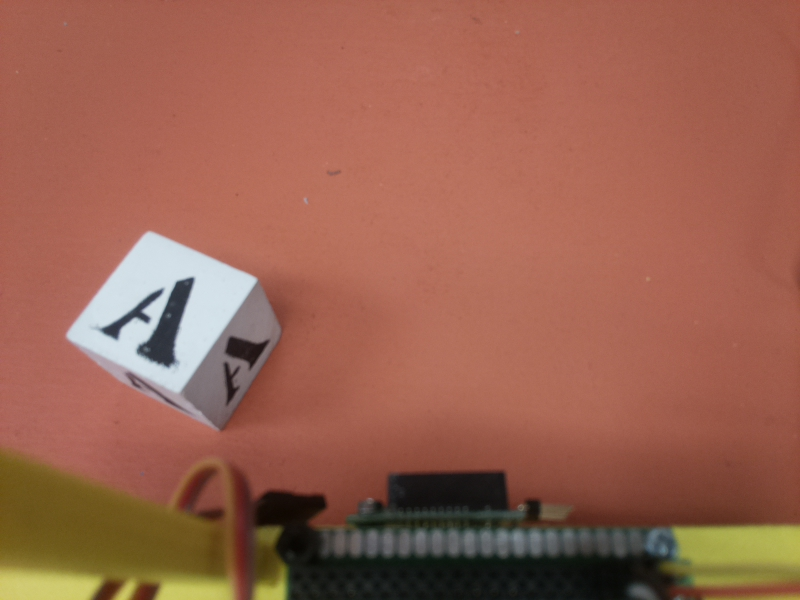blockA: (65, 230, 283, 439)
